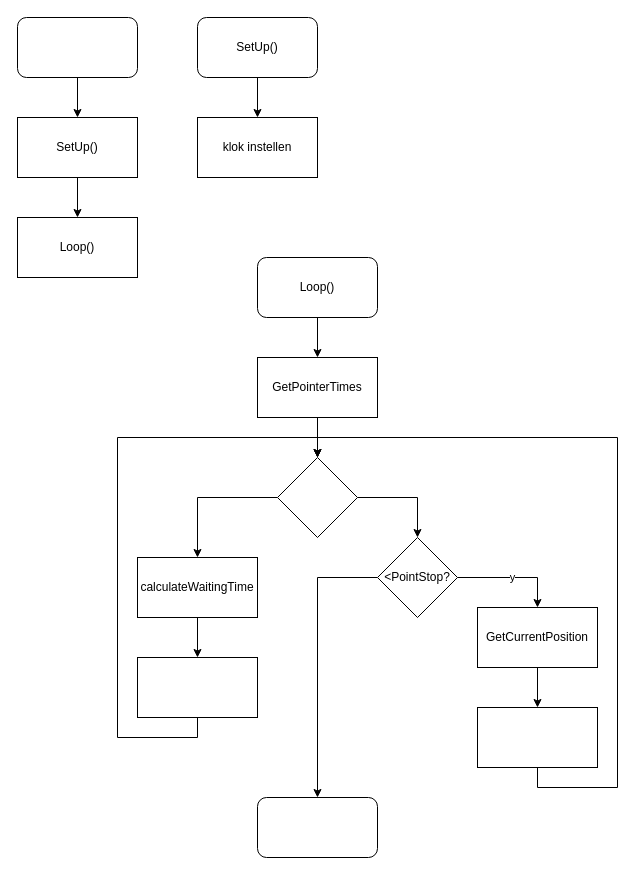
Image size: 643x875. Some labels were removed from this diagram. The centre of each missing label's shape, as x and y in pixels:
>PointStart?: (x=317, y=497)
AdjustPointer: (x=537, y=737)
endLoop: (x=317, y=827)
Start: (x=77, y=47)
Wait: (x=197, y=687)
